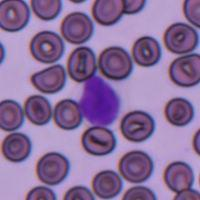L: (79, 68, 123, 128)
